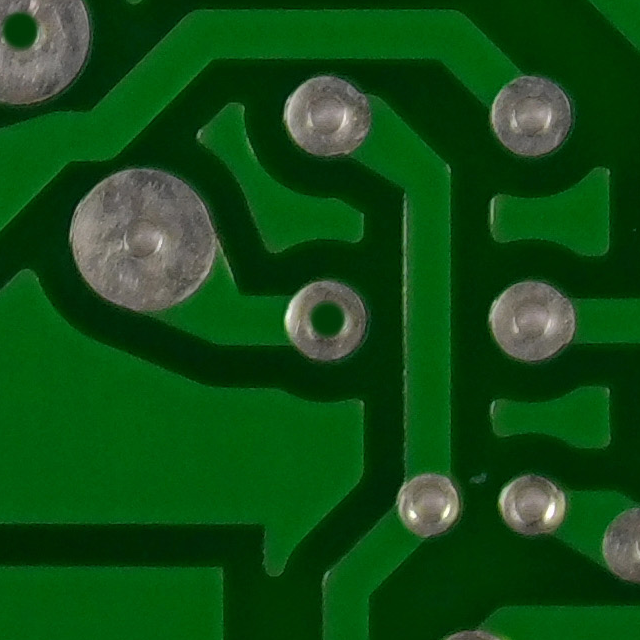missing_hole: (273, 281, 368, 360), (0, 0, 82, 88)
